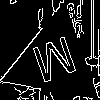M: (30, 35, 83, 93)
